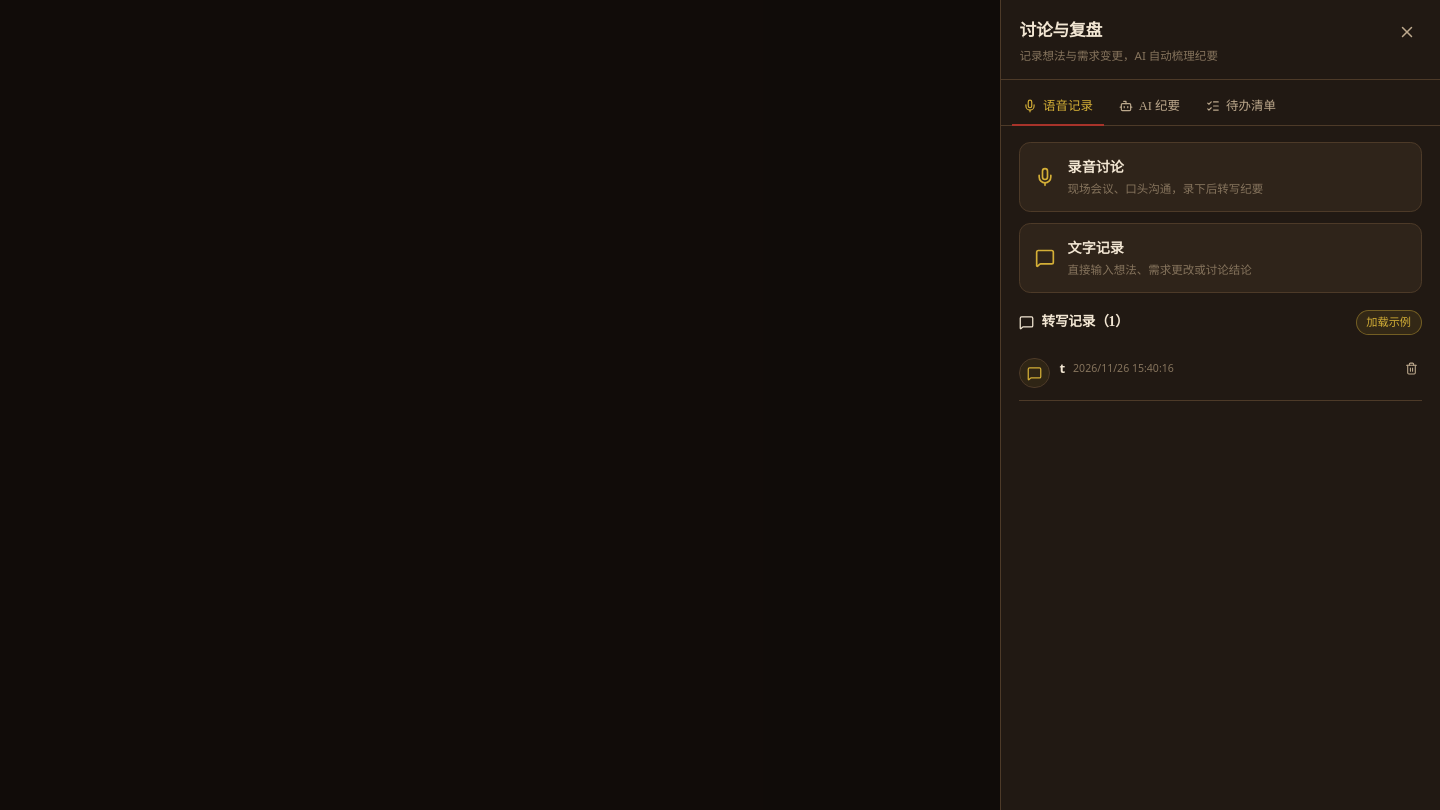
Scenario: DiscussionPanel 抽屉 › 已转换的分组显示已转入且不再出现按钮
Click the tab "待办清单" at [1241, 107], box top-left (1195, 89), bottom-right (1287, 126)
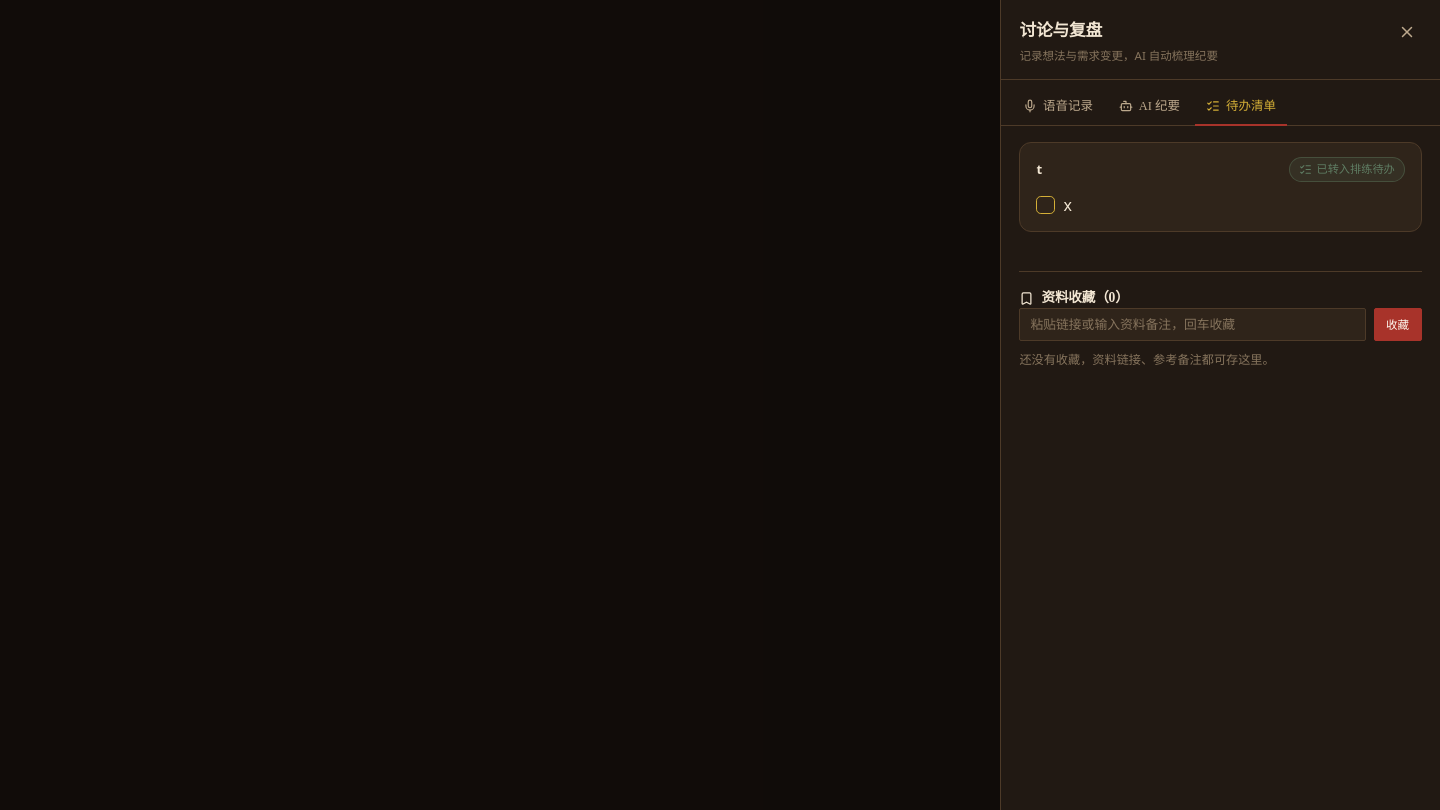
expect the text "已转入排练待办" is shown: met, box top-left (1289, 157), bottom-right (1405, 182)
